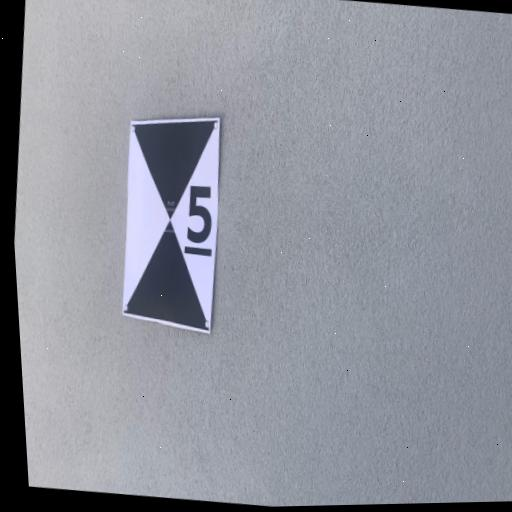target5: (107, 112, 234, 335)
